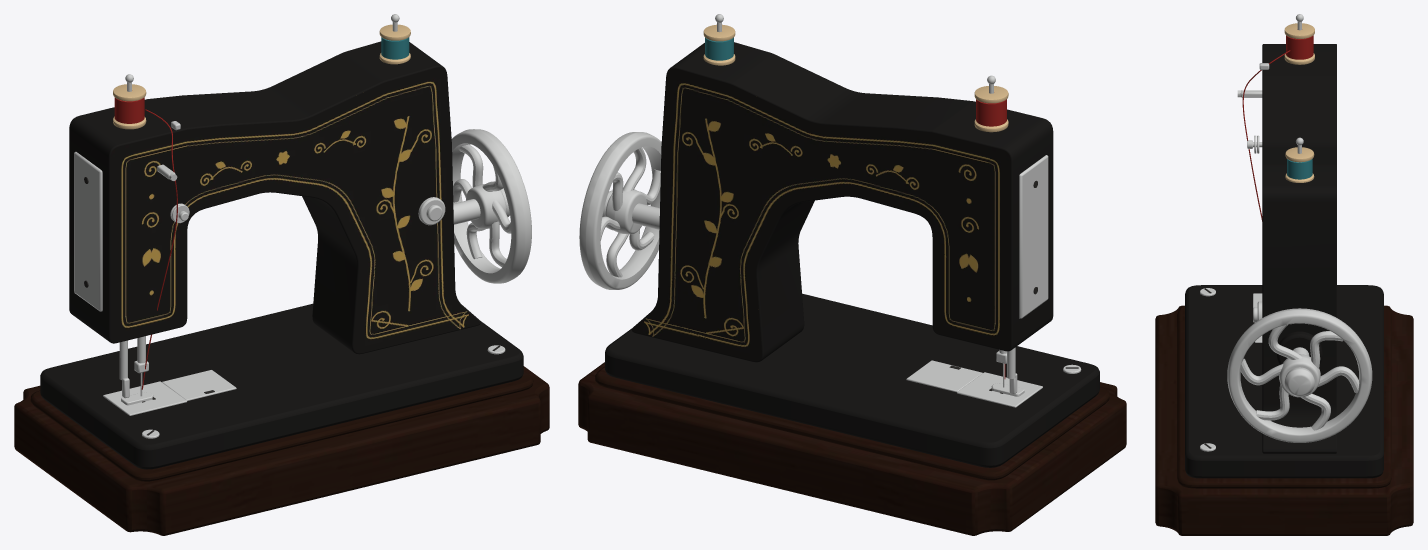
Rendered from sewing-machine.glb.
3 renders of one model, left to right at view 1: azimuth 30°, elevation 25°; view 2: azimuth 150°, elevation 25°; view 3: azimuth 270°, elevation 25°, orthographic. The views are drawn at different scales.
Visible parts, largest first — view 1: sewing_machine; view 2: sewing_machine; view 3: sewing_machine.
Boxes of the visible parts, <box> form: sewing_machine: <box>14,14,549,535</box>; sewing_machine: <box>578,14,1126,535</box>; sewing_machine: <box>1155,14,1413,535</box>.
Bounding box in the file's own units: 0.496 × 0.4192 × 0.27.
Materials: 8 (2 with a texture image).
